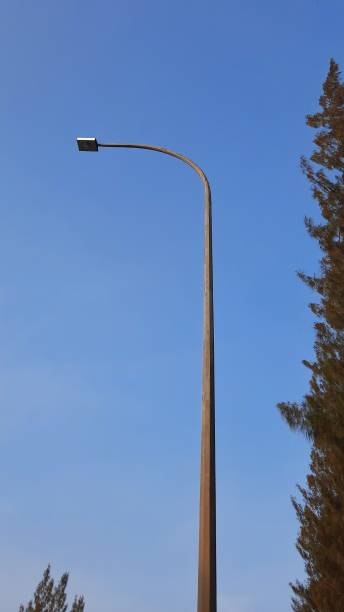light_pole: (197, 220, 219, 610)
